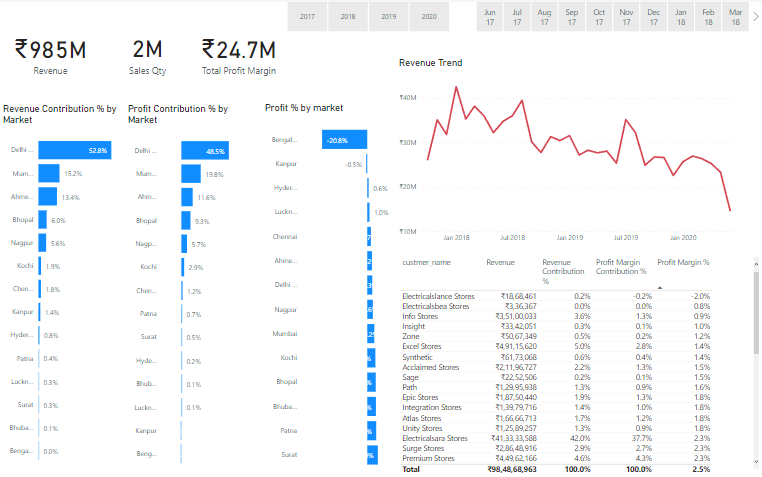

The page's visual inventory and layout, read from the dashboard file:
{"tool":"powerbi","page":{"name":"Profit Analysis","canvas":[1350,850],"ordinal":1},"visuals":[{"type":"card","fields":{"Values":["BaseMeasures (2).Revenue"]},"box":[0,5.3,178.9,184.3],"z":0},{"type":"card","fields":{"Values":["BaseMeasures (2).Sales Qty"]},"box":[178.9,0,164.8,193.1],"z":1000},{"type":"barChart","title":"Profit % by market","fields":{"Y":["BaseMeasures (2).Profit Margin %"],"Category":["sales markets.markets_name"]},"box":[464.5,184.8,230.2,664.8],"z":2000},{"type":"barChart","title":"Profit Contribution % by Market","fields":{"Y":["BaseMeasures (2).Profit Margin Contribution %"],"Category":["sales markets.markets_name"]},"box":[221.9,185.8,208.5,659.6],"z":3000},{"type":"slicer","fields":{"Values":["sales date.year"]},"box":[483.2,0,335.5,66.5],"z":4000},{"type":"slicer","fields":{"Values":["sales date.cy_date"]},"box":[818.6,0,531.7,66.5],"z":5000},{"type":"tableEx","title":"Top 5 Customers","fields":{"Values":["sales customers.custmer_name","BaseMeasures (2).Revenue","BaseMeasures (2).Revenue Contribution %","BaseMeasures (2).Profit Margin Contribution %","BaseMeasures (2).Profit Margin %"]},"box":[701.9,454.2,648.3,395.4],"z":6000},{"type":"lineChart","title":"Revenue Trend","fields":{"Y":["BaseMeasures (2).Revenue"],"Category":["sales date.cy_date"]},"box":[701.9,104.3,621.4,338.6],"z":7000},{"type":"card","fields":{"Values":["BaseMeasures (2).Total Profit Margin"]},"box":[343.7,8.9,159.4,177.2],"z":8000},{"type":"barChart","title":"Revenue Contribution % by Market","fields":{"Y":["BaseMeasures (2).Revenue Contribution %"],"Category":["sales markets.markets_name"]},"box":[0,185.8,219.9,654.5],"z":9000},{"type":"clusteredColumnChart","box":[240.9,272.8,301.2,301.2],"z":9001}]}

Visuals, with their boxes in screenshot pixels (x1, y1, x2, y2), scaled from the page's 1350x850 canvas onto the 762x477 screenshot:
card - BaseMeasures (2).Revenue: detection(0, 3, 101, 106)
card - BaseMeasures (2).Sales Qty: detection(101, 0, 194, 108)
"Profit % by market" barChart: detection(262, 104, 392, 476)
"Profit Contribution % by Market" barChart: detection(125, 104, 243, 474)
slicer - sales date.year: detection(273, 0, 462, 37)
slicer - sales date.cy_date: detection(462, 0, 761, 37)
"Top 5 Customers" tableEx: detection(396, 255, 761, 476)
"Revenue Trend" lineChart: detection(396, 59, 747, 249)
card - BaseMeasures (2).Total Profit Margin: detection(194, 5, 284, 104)
"Revenue Contribution % by Market" barChart: detection(0, 104, 124, 472)
clusteredColumnChart: detection(136, 153, 306, 322)
